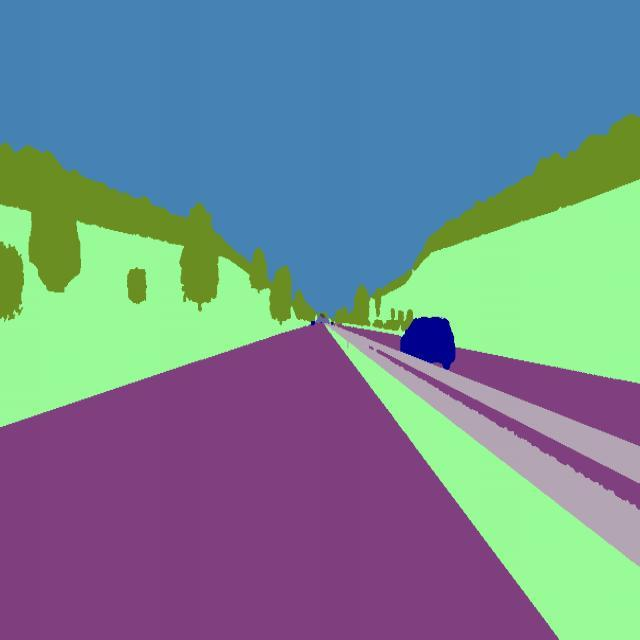safe: (398, 314, 458, 372)
